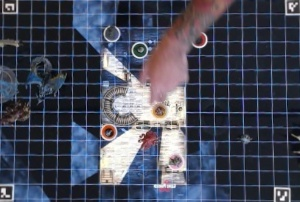green: (130, 39, 151, 60)
orange: (98, 120, 117, 140)
pink: (167, 152, 184, 172)
red: (189, 29, 210, 47)
violet: (103, 22, 121, 41)
yellow: (150, 101, 167, 117)
